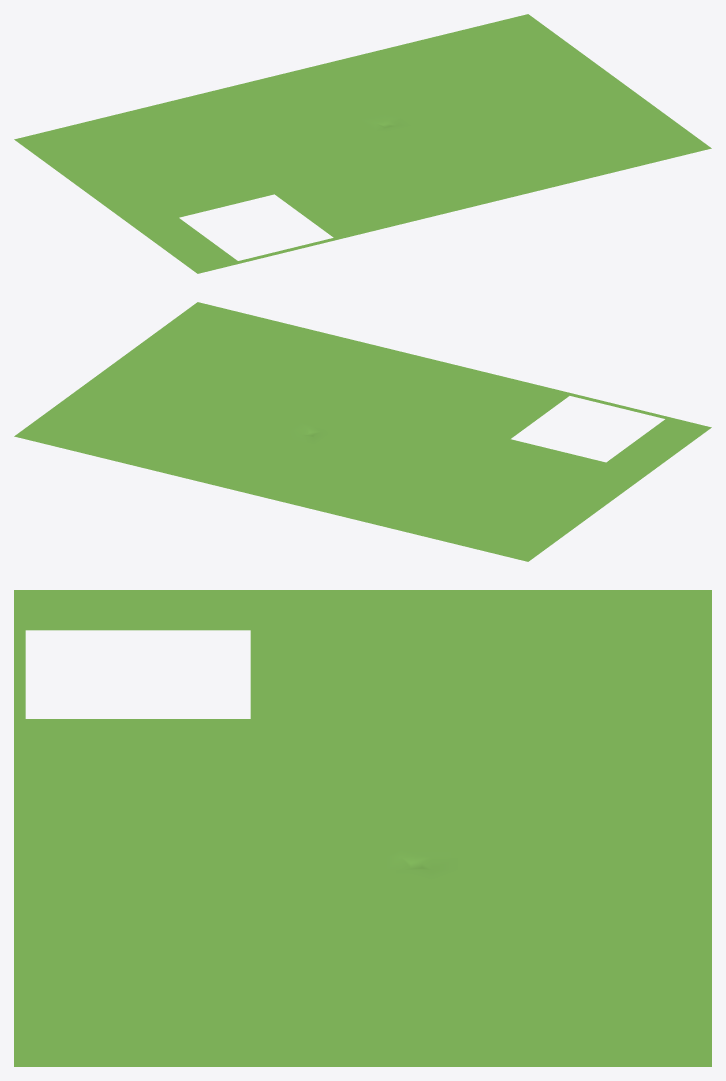
File: soil plain.fbx
3 views of the same model, one above another, from view 1: azimuth 30°, elevation 25°; view 2: azimuth 150°, elevation 25°; view 3: azimuth 270°, elevation 25° (orthographic). The views are drawn at different scales.
Parts seen in each view (by area): view 1: garden.001; view 2: garden.001; view 3: garden.001.
Part boxes in pixels (x1,y1,x2,y2): garden.001: (14,14,711,273); garden.001: (14,302,711,561); garden.001: (14,590,711,1066).
Bounding box in the file's own units: 615 × 1.34 × 380.
